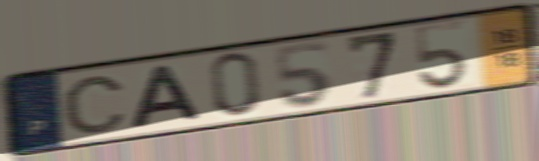0: (206, 50, 264, 121)
5: (272, 36, 335, 111), (411, 17, 473, 93)
7: (344, 29, 400, 103)
A: (128, 62, 205, 132)
C: (59, 74, 130, 136)
